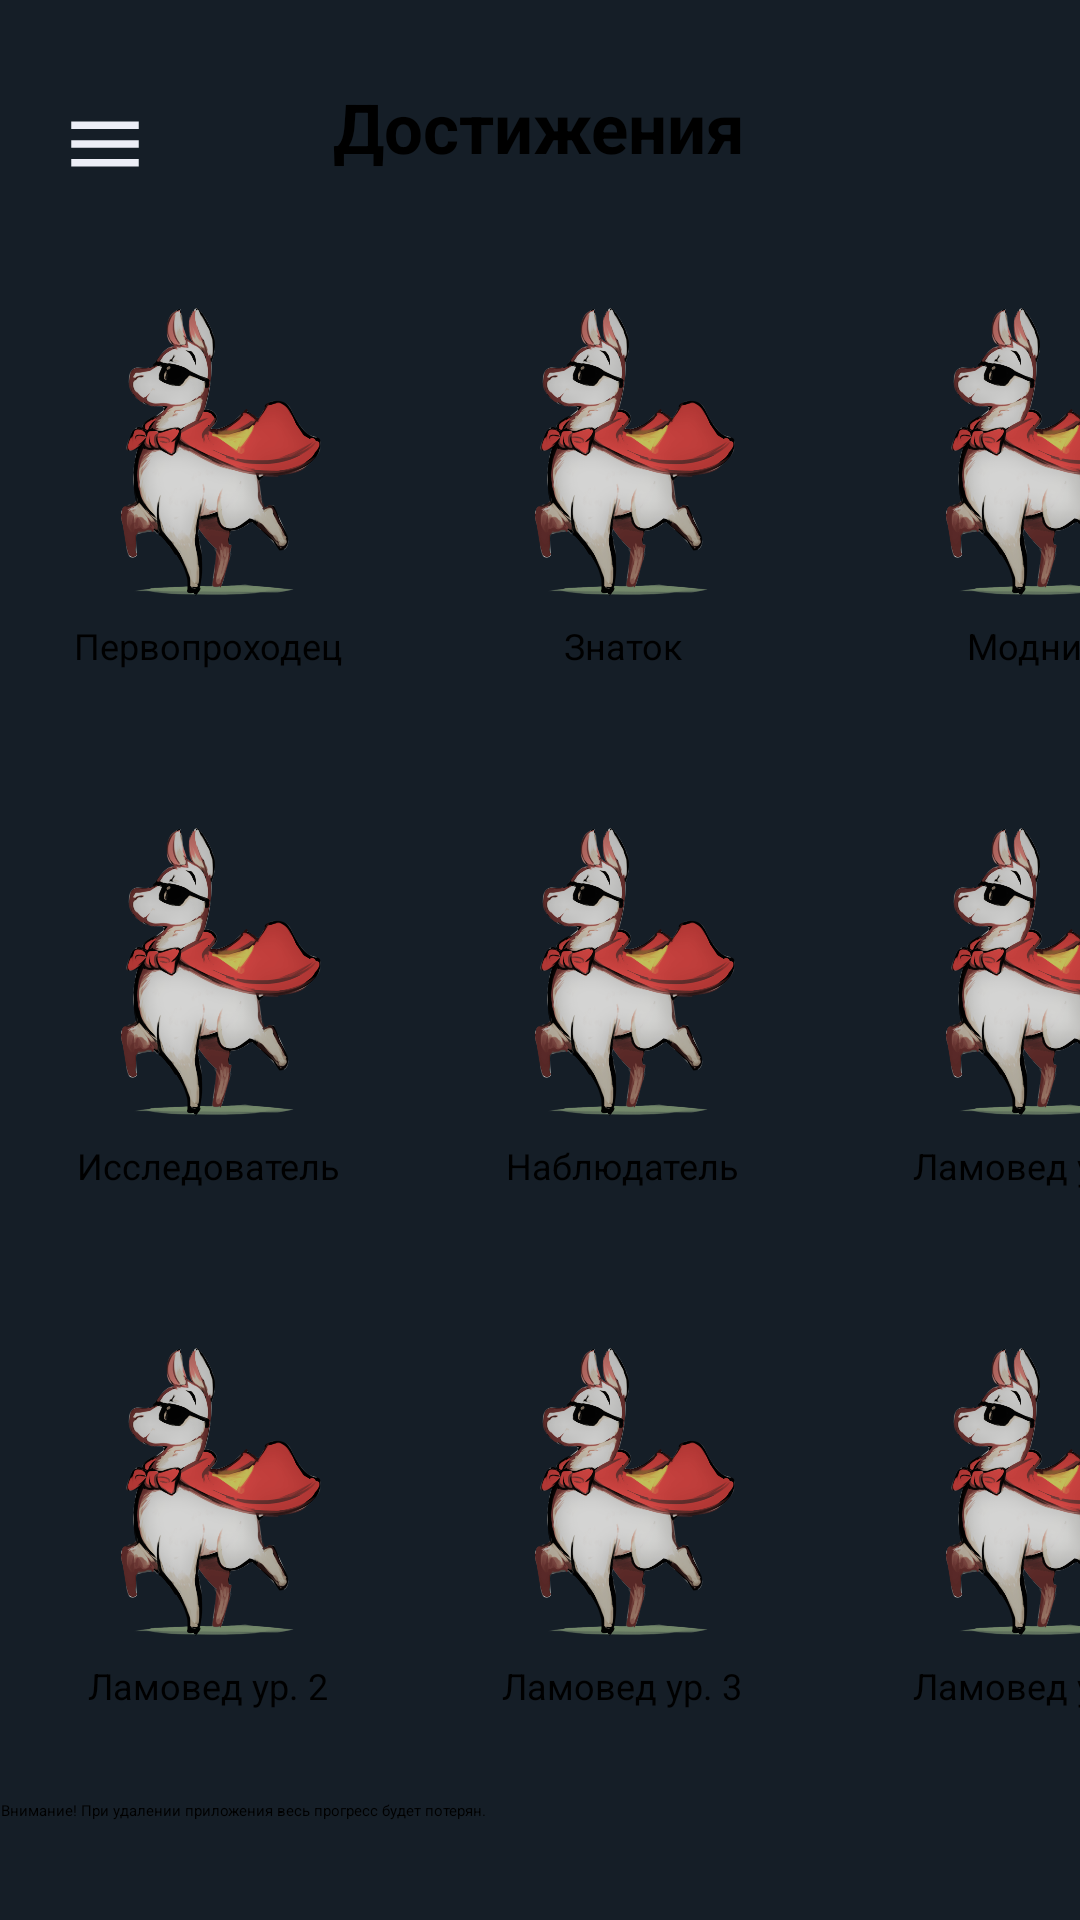

Locate icon controls on the screen. Image size 1080w x 1920h, boxes as Rect(x1, y1, x2, y2).
nav: Rect(71, 121, 139, 167)
